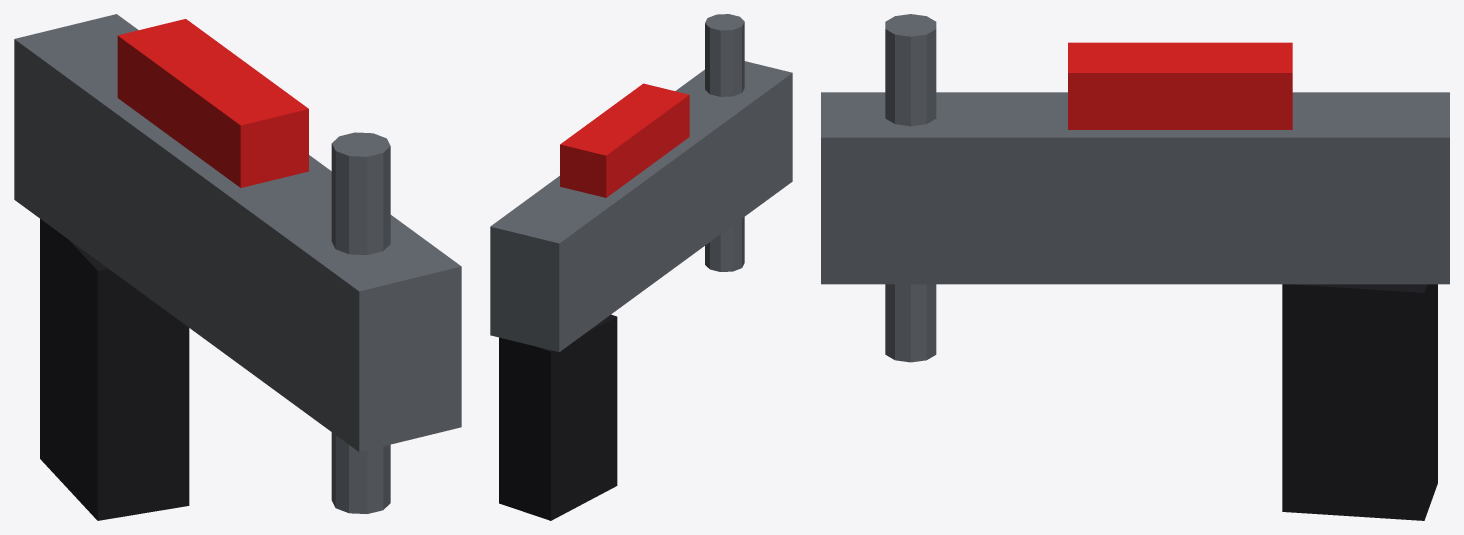
File: smart_pistol.obj
3 renders of one model, left to right at view 1: azimuth 30°, elevation 25°; view 2: azimuth 150°, elevation 25°; view 3: azimuth 270°, elevation 25°, orthographic. The views are drawn at different scales.
Parts seen in each view (by area): view 1: SmartPistol; view 2: SmartPistol; view 3: SmartPistol.
Part boxes in pixels (bbox=[...]): SmartPistol: bbox=[14, 14, 461, 520]; SmartPistol: bbox=[490, 14, 792, 520]; SmartPistol: bbox=[821, 14, 1449, 520].
Size of the model in its own units: 0.1228 by 0.58 by 0.7.
